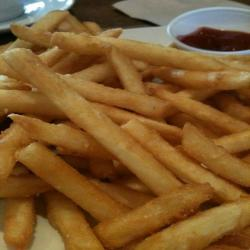fries: (8, 47, 249, 250)
ketchup: (166, 4, 250, 64)
